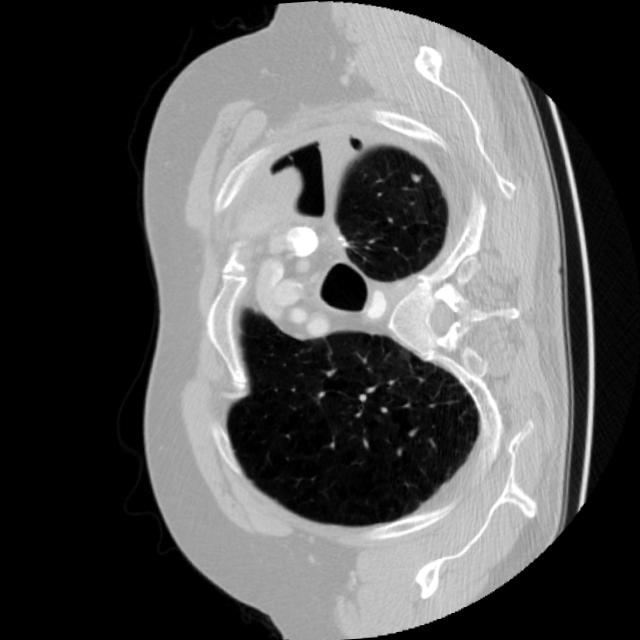nodule: (402, 164, 426, 187)
